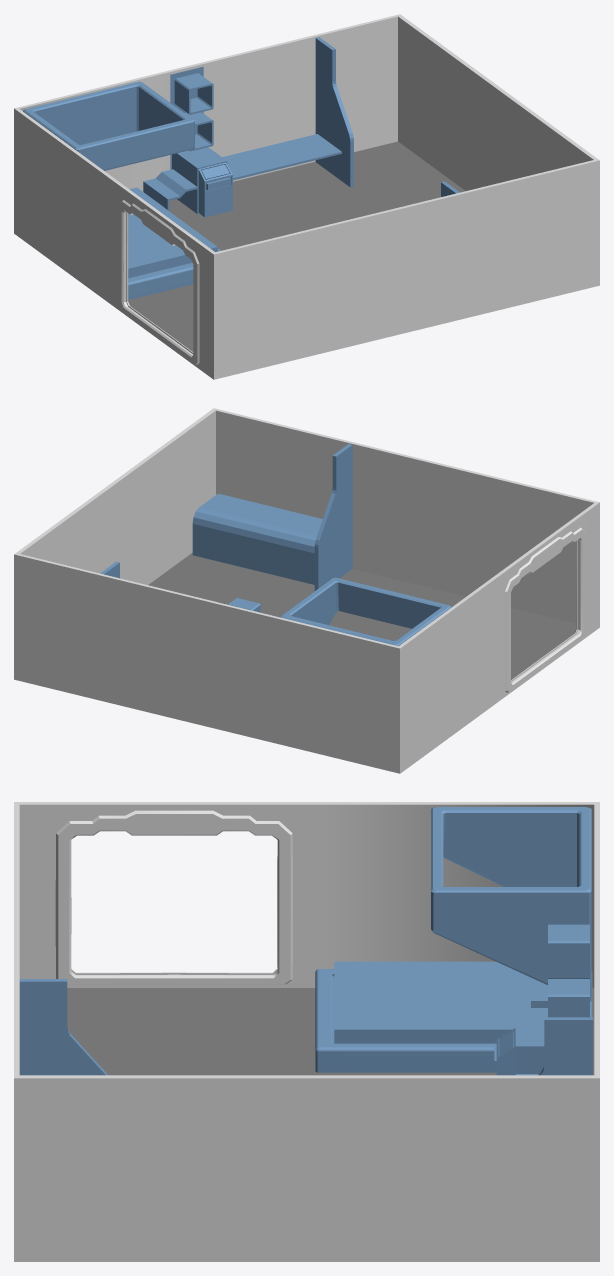
The model's file is BedroomV1.0.fbx.
3 views of the same model, one above another, from view 1: azimuth 30°, elevation 25°; view 2: azimuth 150°, elevation 25°; view 3: azimuth 270°, elevation 25° (orthographic). The views are drawn at different scales.
Visible parts, largest first — view 1: polySurface1; view 2: polySurface1; view 3: polySurface1.
Part boxes in pixels (x1,y1,x2,y2): polySurface1: (14,14,599,379); polySurface1: (14,408,599,773); polySurface1: (14,802,599,1261).
Bounding box in the file's own units: 720 × 223 × 643.
